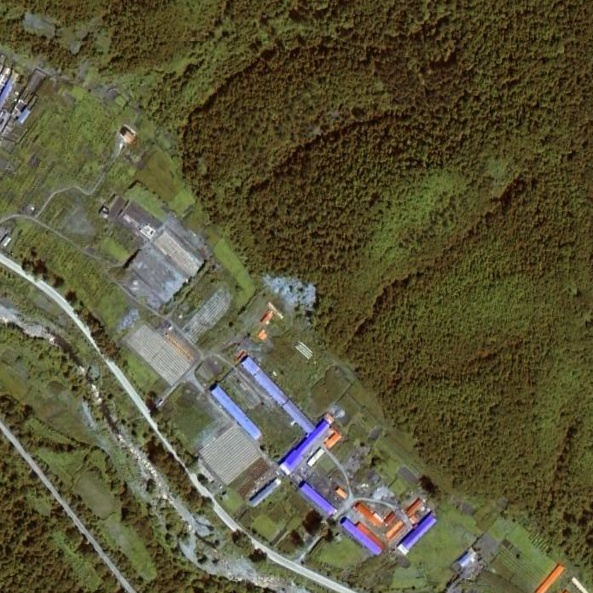slope: (261, 270, 320, 318)
